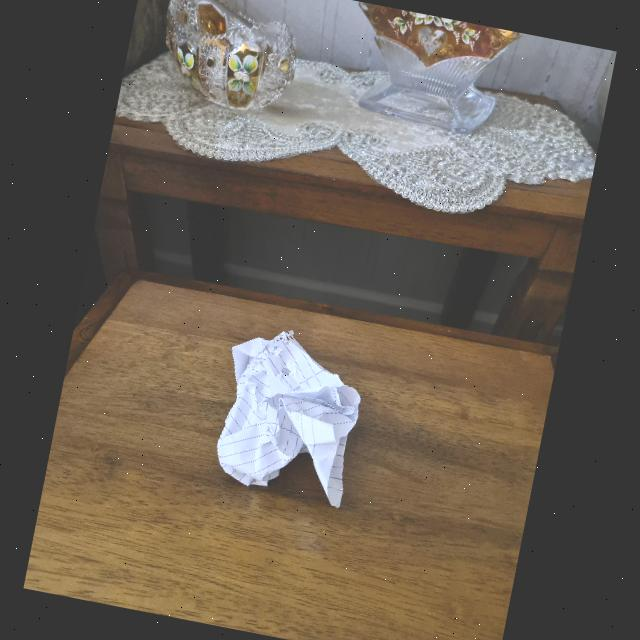trash: (203, 319, 374, 508)
